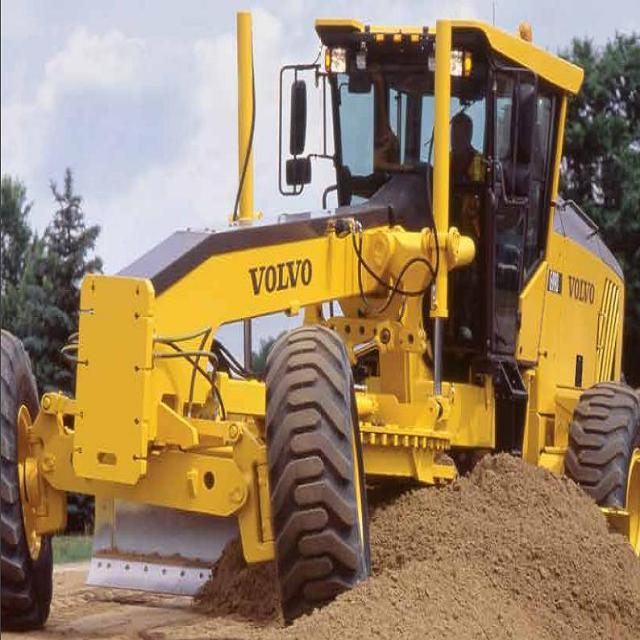buldozerpayloadergrader: (2, 7, 640, 634)
